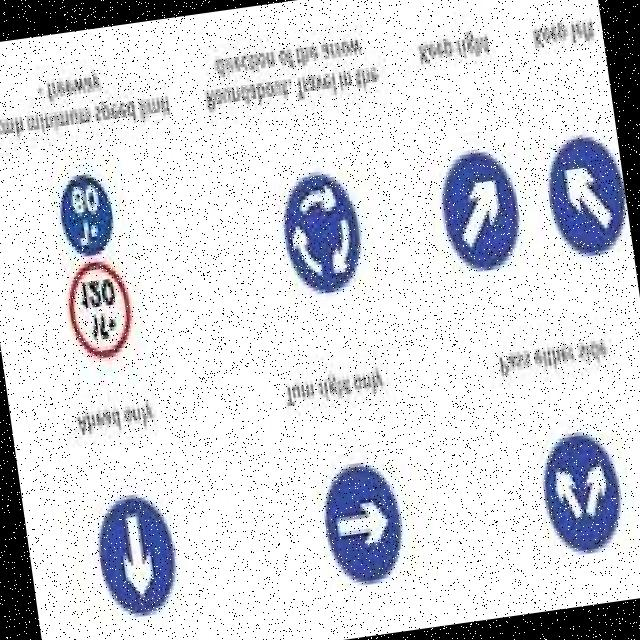compulsory_keep_right: (430, 132, 533, 294)
